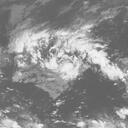cyclone: (8, 26, 107, 88)
